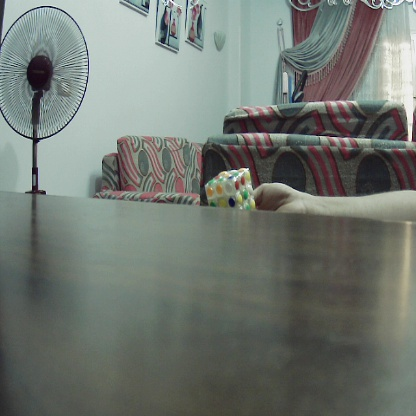Rubix Cube: (204, 167, 255, 211)
